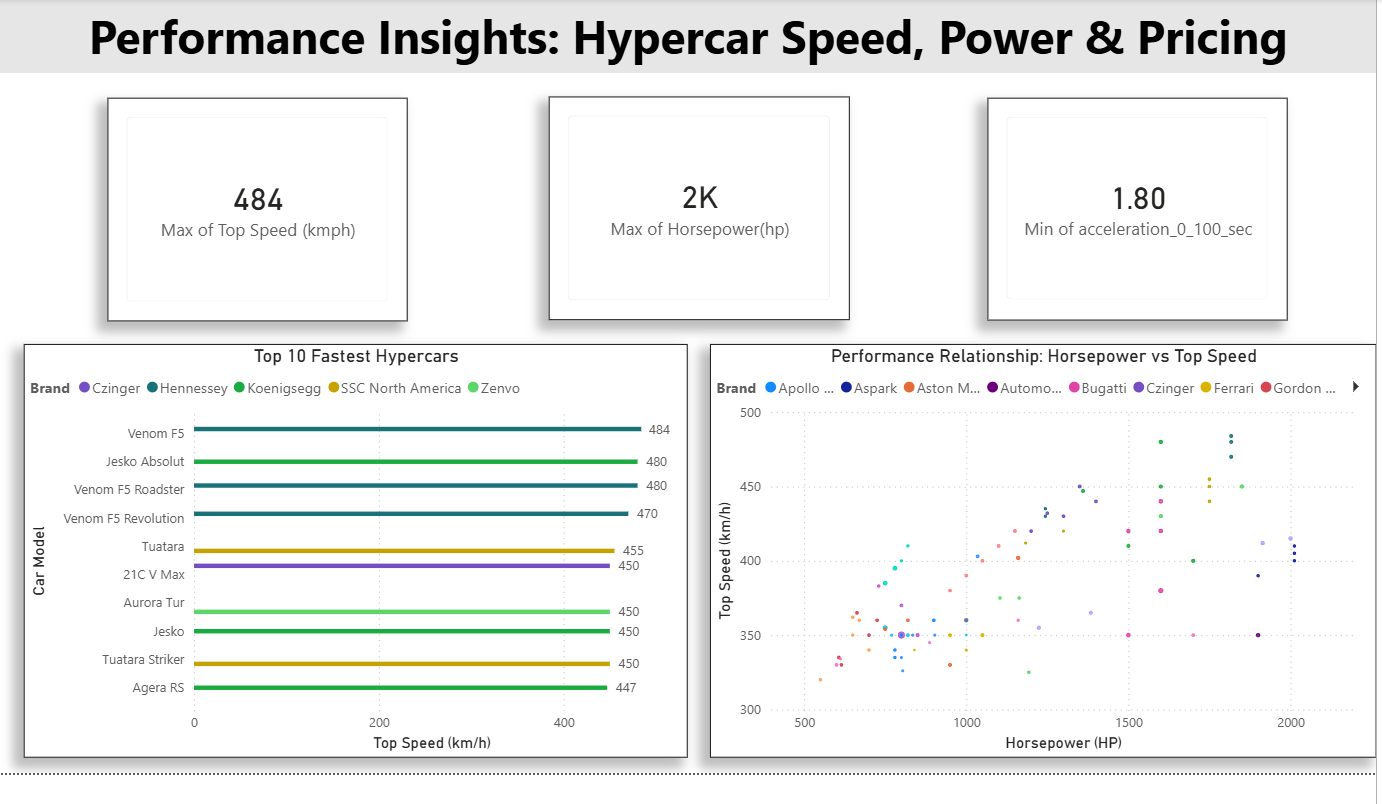

The page's visual inventory and layout, read from the dashboard file:
{"tool":"powerbi","page":{"name":"Performance Analysis ","canvas":[1280,720],"ordinal":0},"visuals":[{"type":"cardVisual","fields":{"Data":["Max(car_full_details.Top Speed (kmph))"]},"box":[100,91.9,279.1,208.1],"z":0},{"type":"cardVisual","fields":{"Data":["Max(car_full_details.Horsepower(hp))"]},"box":[510.5,90.7,280.2,208.1],"z":1000},{"type":"cardVisual","fields":{"Data":["Min(car_full_details.acceleration_0_100_sec)"]},"box":[918.6,91.9,279.1,207],"z":2000},{"type":"clusteredBarChart","title":"Top 10 Fastest Hypercars","fields":{"Category":["car_full_details.model_name_fixed"],"Y":["Sum(car_full_details.top_speed_kmph)"],"Series":["car_full_details.brand_name"]},"box":[22.1,320.9,617.4,384.9],"z":3000},{"type":"scatterChart","title":"Performance Relationship: Horsepower vs Top Speed","fields":{"X":["Sum(car_full_details.horsepower)"],"Y":["Sum(car_full_details.top_speed_kmph)"],"Size":["Avg(car_full_details.price_million)"],"Series":["car_full_details.brand_name"]},"box":[660.5,320.9,619.8,384.9],"z":4000},{"type":"textbox","box":[0,0,1280.2,68.6],"z":5000}]}

Visuals, with their boxes on the page's 1280x720 design canvas (x1, y1, x2, y2). These are canvas units, not pixel positions in the 1382x804 screenshot, which may show the page scaled, cropped or inside an application window:
cardVisual - Max(car_full_details.Top Speed (kmph)): box(100, 92, 379, 300)
cardVisual - Max(car_full_details.Horsepower(hp)): box(510, 91, 791, 299)
cardVisual - Min(car_full_details.acceleration_0_100_sec): box(919, 92, 1198, 299)
"Top 10 Fastest Hypercars" clusteredBarChart: box(22, 321, 640, 706)
"Performance Relationship: Horsepower vs Top Speed" scatterChart: box(660, 321, 1280, 706)
textbox: box(0, 0, 1280, 69)
